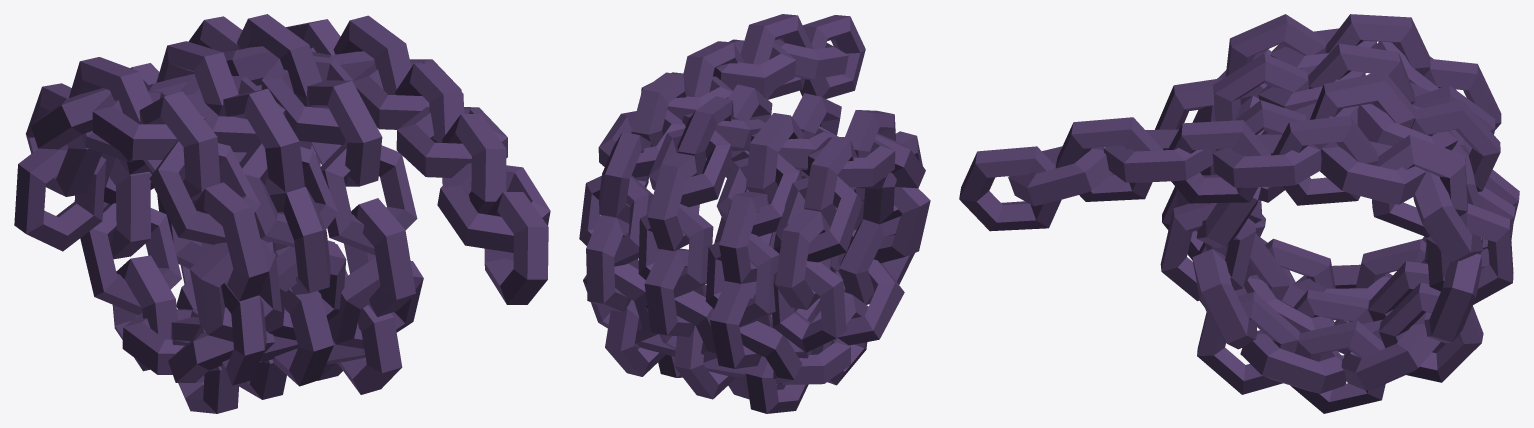
Rendered from chains.fbx.
3 views of the same model, side by side, from view 1: azimuth 30°, elevation 25°; view 2: azimuth 150°, elevation 25°; view 3: azimuth 270°, elevation 25° (orthographic). The views are drawn at different scales.
Parts seen in each view (by area): view 1: pTorus38; view 2: pTorus38; view 3: pTorus38.
Part boxes in pixels (box(x1,y1,x2,y2)): pTorus38: box(14, 14, 550, 413); pTorus38: box(579, 14, 930, 413); pTorus38: box(959, 14, 1519, 413).
Size of the model in its own units: 1.06 by 1.08 by 1.73.
